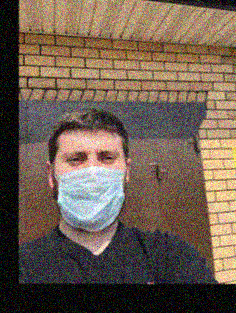with_mask: (53, 138, 126, 234)
